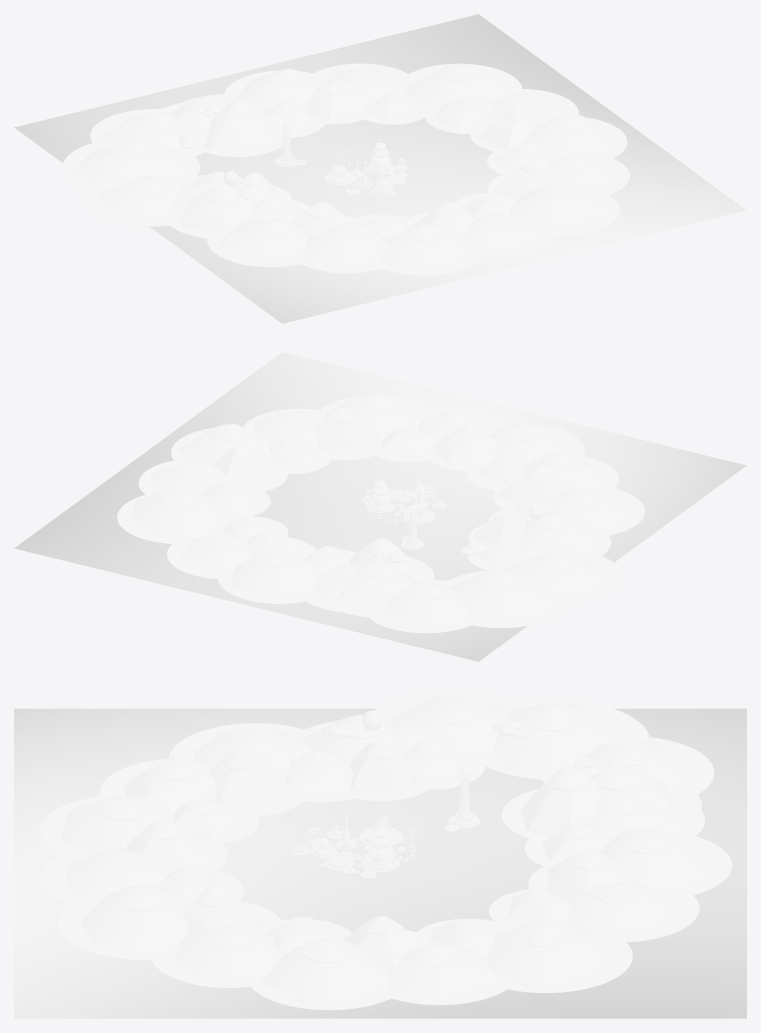
3 views of the same model, one above another, from view 1: azimuth 30°, elevation 25°; view 2: azimuth 150°, elevation 25°; view 3: azimuth 270°, elevation 25° (orthographic). The views are drawn at different scales.
Visible parts, largest first — view 1: Ground, Mountain.031, Mountain.025, Mountain.023, Mountain.029, Mountain.003, Mountain.022, Mountain.021, Mountain.027, Mountain.032, Mountain.020, Mountain.024 (+40 smaller); view 2: Ground, Mountain.031, Mountain.029, Mountain.016, Mountain.032, Mountain.030, Mountain.018, Mountain.011, Mountain.021, Mountain.023, Mountain.015, Mountain.009 (+43 smaller); view 3: Ground, Mountain.029, Mountain.027, Mountain.031, Mountain.025, Mountain.026, Mountain.028, Mountain.016, Mountain.015, Mountain.023, Mountain.007, Mountain.032 (+67 smaller).
Boxes of the visible parts, x1=… form: Ground: x1=14, y1=14, x2=746, y2=323; Mountain.031: x1=71, y1=144, x2=192, y2=188; Mountain.025: x1=509, y1=186, x2=613, y2=230; Mountain.023: x1=380, y1=225, x2=471, y2=271; Mountain.029: x1=405, y1=66, x2=514, y2=109; Mountain.003: x1=204, y1=107, x2=279, y2=151; Mountain.022: x1=303, y1=226, x2=388, y2=266; Mountain.021: x1=218, y1=220, x2=308, y2=259; Mountain.027: x1=521, y1=117, x2=617, y2=158; Mountain.032: x1=99, y1=175, x2=191, y2=218; Mountain.020: x1=179, y1=192, x2=256, y2=235; Mountain.024: x1=461, y1=213, x2=543, y2=251; Ground: x1=14, y1=352, x2=746, y2=661; Mountain.031: x1=450, y1=571, x2=560, y2=620; Mountain.029: x1=130, y1=493, x2=230, y2=537; Mountain.016: x1=232, y1=555, x2=325, y2=598; Mountain.032: x1=504, y1=552, x2=613, y2=596; Mountain.030: x1=380, y1=583, x2=470, y2=625; Mountain.018: x1=335, y1=567, x2=420, y2=610; Mountain.011: x1=314, y1=417, x2=381, y2=454; Mountain.021: x1=544, y1=488, x2=637, y2=530; Mountain.023: x1=489, y1=427, x2=571, y2=464; Mountain.015: x1=180, y1=534, x2=252, y2=572; Mountain.009: x1=434, y1=432, x2=497, y2=465; Ground: x1=14, y1=708, x2=746, y2=1018; Mountain.029: x1=486, y1=923, x2=615, y2=989; Mountain.027: x1=261, y1=943, x2=388, y2=1004; Mountain.031: x1=493, y1=703, x2=621, y2=772; Mountain.025: x1=81, y1=887, x2=189, y2=954; Mountain.026: x1=176, y1=929, x2=281, y2=984; Mountain.028: x1=387, y1=940, x2=498, y2=1000; Mountain.016: x1=598, y1=830, x2=711, y2=892; Mountain.015: x1=567, y1=880, x2=681, y2=935; Mountain.023: x1=61, y1=799, x2=173, y2=853; Mountain.007: x1=208, y1=755, x2=290, y2=812; Mountain.032: x1=390, y1=695, x2=508, y2=759.
Bounding box in the file's own units: 148 × 13.94 × 140.
92 materials, 1 textured.
